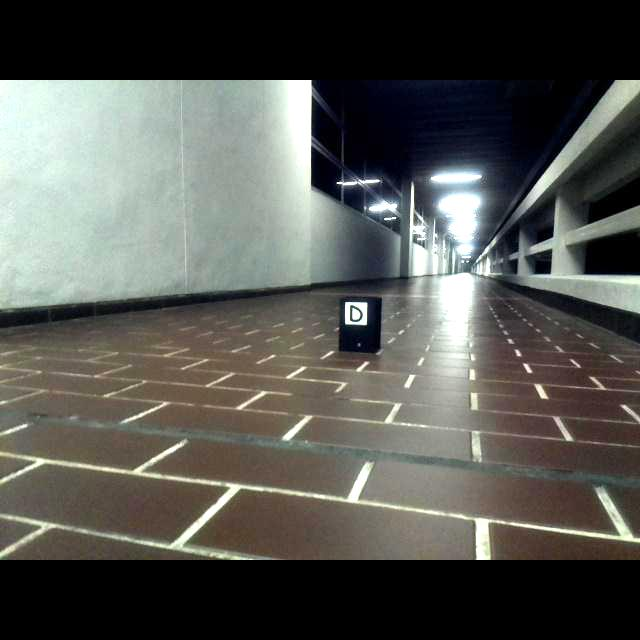D: (349, 304, 364, 323)
